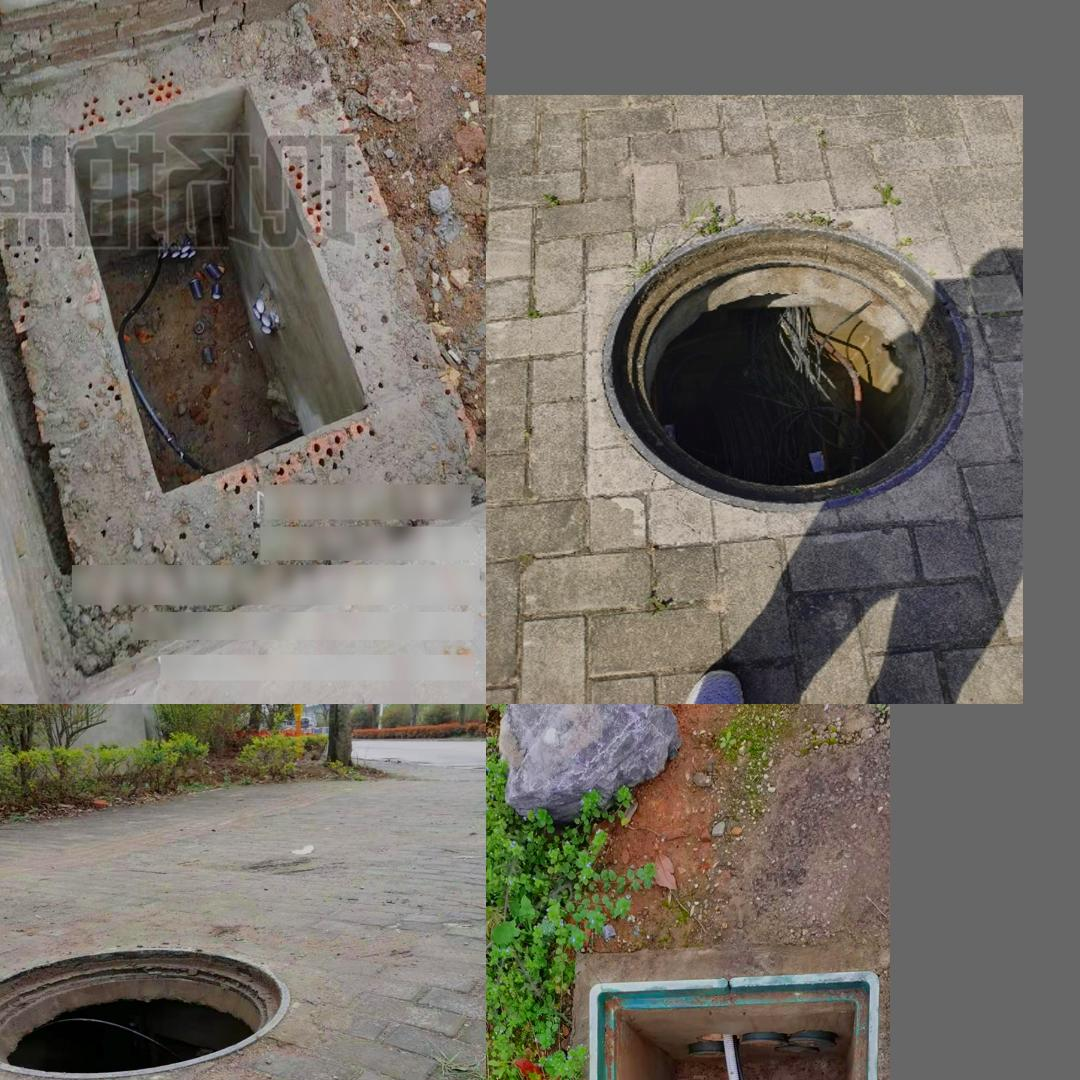lose: (67, 78, 374, 494), (599, 223, 975, 512), (0, 945, 291, 1077), (588, 968, 879, 1080)
